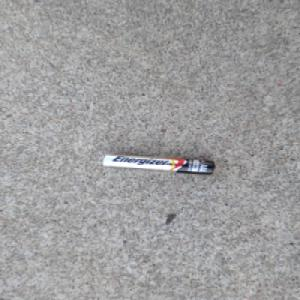Battery: (99, 153, 217, 176)
